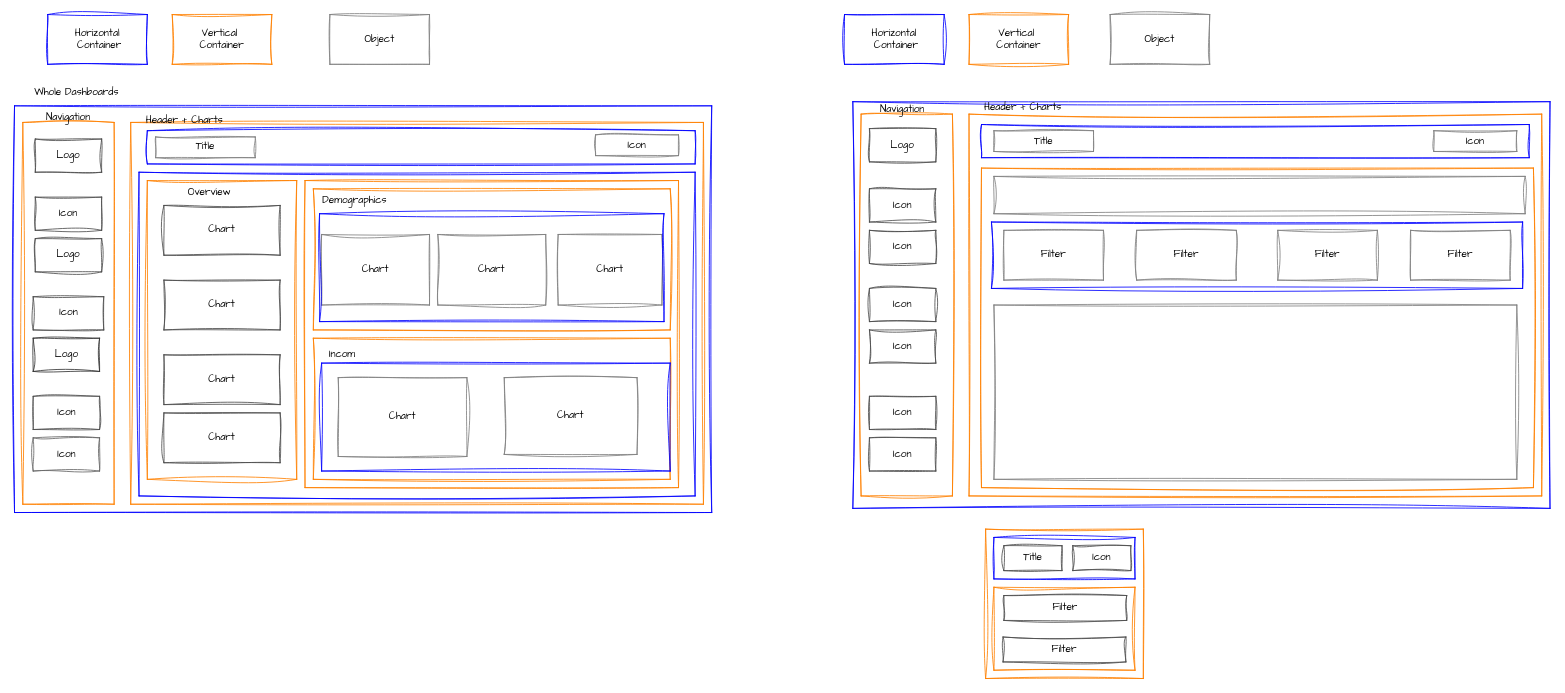
Some shapes in this 1565 by 693 pixel diagram are drawn without their labels. The shapes that lost their labels are listed below. From the top down, each one's centre as x and y in pixels, then its label:
the point at 1259,195: Employee List
the point at 1255,391: List
